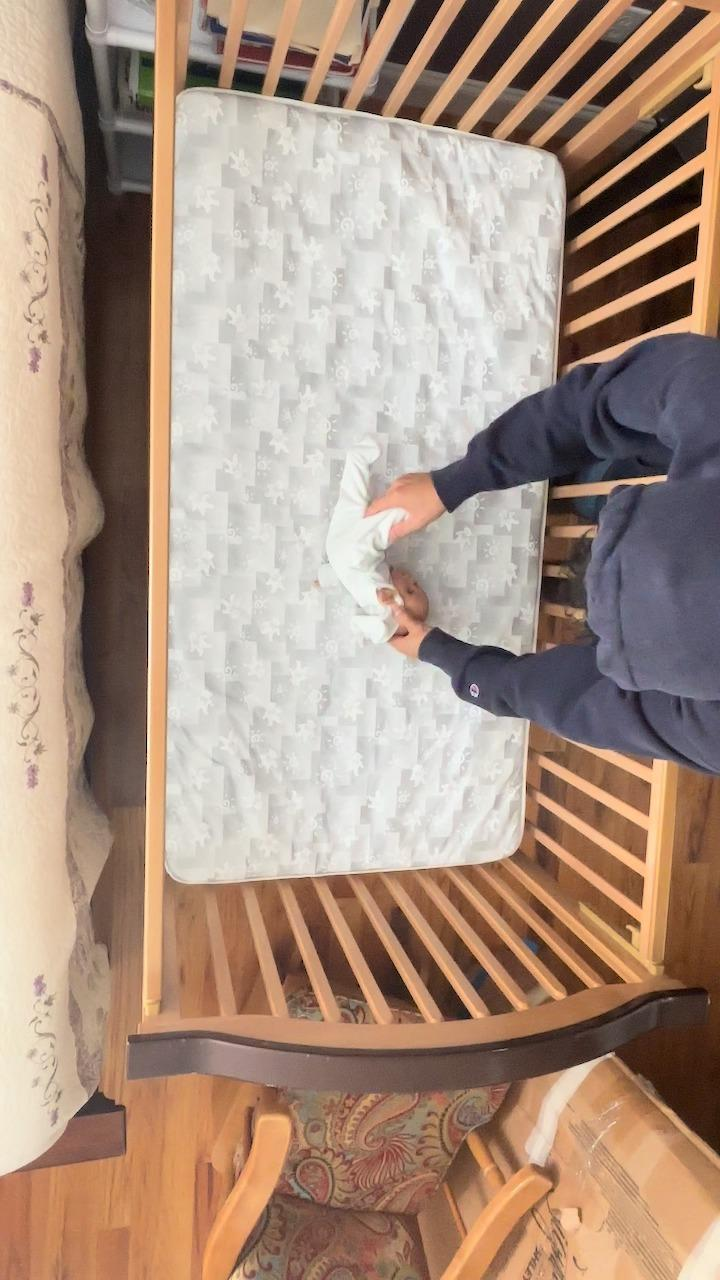baby: (313, 433, 433, 642)
